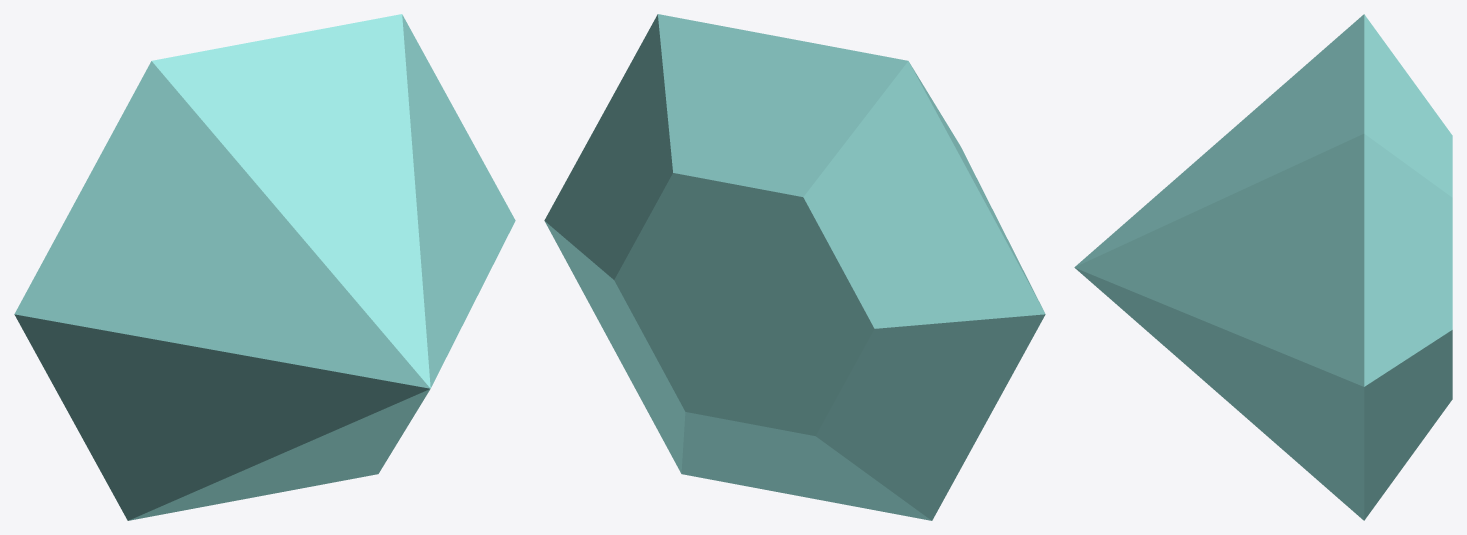
File: DiamondIcon.fbx
3 renders of one model, left to right at view 1: azimuth 30°, elevation 25°; view 2: azimuth 150°, elevation 25°; view 3: azimuth 270°, elevation 25°, orthographic. The views are drawn at different scales.
Parts seen in each view (by area): view 1: Cone.003; view 2: Cone.003; view 3: Cone.003.
Boxes of the visible parts, bbox=[...] form: Cone.003: bbox=[14, 14, 515, 520]; Cone.003: bbox=[544, 14, 1045, 520]; Cone.003: bbox=[1074, 14, 1452, 520].
Size of the model in its own units: 150 by 134 by 112.
